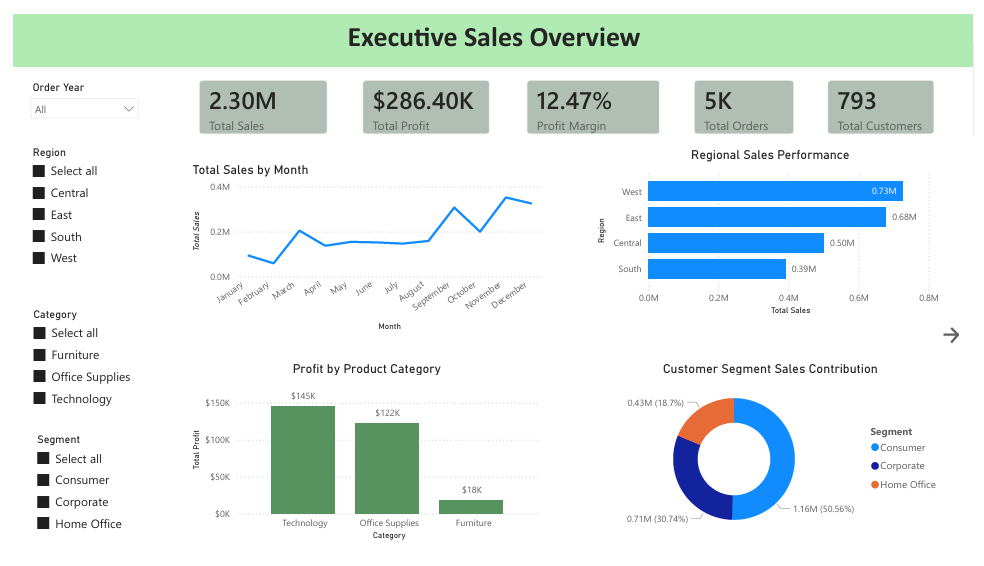

The page's visual inventory and layout, read from the dashboard file:
{"tool":"powerbi","page":{"name":"Executive Sales Overview","canvas":[1280,720],"ordinal":0},"visuals":[{"type":"cardVisual","fields":{"Data":["Table.Total Sales"]},"box":[229.8,70.2,204.9,105.4],"z":0},{"type":"cardVisual","fields":{"Data":["Table.Total Customers"]},"box":[1068.3,70.2,175.6,105.4],"z":1000},{"type":"cardVisual","fields":{"Data":["Table.Total Profit"]},"box":[447.8,70.2,203.4,105.4],"z":2000},{"type":"cardVisual","fields":{"Data":["Table.Total Orders"]},"box":[889.8,70.2,166.8,105.4],"z":3000},{"type":"cardVisual","fields":{"Data":["Table.Profit Margin"]},"box":[667.3,70.2,210.7,105.4],"z":4000},{"type":"lineChart","fields":{"Y":["Table.Total Sales"],"Category":["Cleaned_Superstore.Month Year","Cleaned_Superstore.Order Date.Variation.Date Hierarchy.Year","Cleaned_Superstore.Order Date.Variation.Date Hierarchy.Month"]},"box":[232.9,195.7,475.7,230],"z":5000},{"type":"clusteredBarChart","title":"Regional Sales Performance","fields":{"Category":["Cleaned_Superstore.Region"],"Y":["Table.Total Sales"]},"box":[772.7,175.6,471.2,229.8],"z":6000},{"type":"clusteredColumnChart","title":"Profit by Product Category","fields":{"Category":["Cleaned_Superstore.Category"],"Y":["Table.Total Profit"]},"box":[232.7,461,475.6,242.9],"z":7000},{"type":"donutChart","title":"Customer Segment Sales Contribution","fields":{"Category":["Cleaned_Superstore.Segment"],"Y":["Table.Total Sales"]},"box":[772.7,461,471.2,242.9],"z":8000},{"type":"slicer","fields":{"Values":["Cleaned_Superstore.Region"]},"box":[11.7,169.8,150.7,190.2],"z":9000},{"type":"slicer","fields":{"Values":["Cleaned_Superstore.Category"]},"box":[13.2,386.3,162.4,166.8],"z":10000},{"type":"slicer","fields":{"Values":["Cleaned_Superstore.Segment"]},"box":[17.6,553.2,162.4,150.7],"z":11000},{"type":"slicer","fields":{"Values":["Cleaned_Superstore.Order Year"]},"box":[11.7,83.4,163.9,79],"z":12000},{"type":"textbox","box":[0,0,1280.5,70.2],"z":13000},{"type":"actionButton","box":[1234,412,33,30],"z":14000}]}

Visuals, with their boxes in screenshot pixels (x1, y1, x2, y2), scaled from the page's 1280x720 canvas onto the 984x566 screenshot:
cardVisual - Table.Total Sales: x1=177, y1=55, x2=334, y2=138
cardVisual - Table.Total Customers: x1=821, y1=55, x2=956, y2=138
cardVisual - Table.Total Profit: x1=344, y1=55, x2=501, y2=138
cardVisual - Table.Total Orders: x1=684, y1=55, x2=812, y2=138
cardVisual - Table.Profit Margin: x1=513, y1=55, x2=675, y2=138
lineChart - Table.Total Sales x Cleaned_Superstore.Month Year: x1=179, y1=154, x2=545, y2=335
"Regional Sales Performance" clusteredBarChart: x1=594, y1=138, x2=956, y2=319
"Profit by Product Category" clusteredColumnChart: x1=179, y1=362, x2=545, y2=553
"Customer Segment Sales Contribution" donutChart: x1=594, y1=362, x2=956, y2=553
slicer - Cleaned_Superstore.Region: x1=9, y1=133, x2=125, y2=283
slicer - Cleaned_Superstore.Category: x1=10, y1=304, x2=135, y2=435
slicer - Cleaned_Superstore.Segment: x1=14, y1=435, x2=138, y2=553
slicer - Cleaned_Superstore.Order Year: x1=9, y1=66, x2=135, y2=128
textbox: x1=0, y1=0, x2=983, y2=55
actionButton: x1=949, y1=324, x2=974, y2=347
